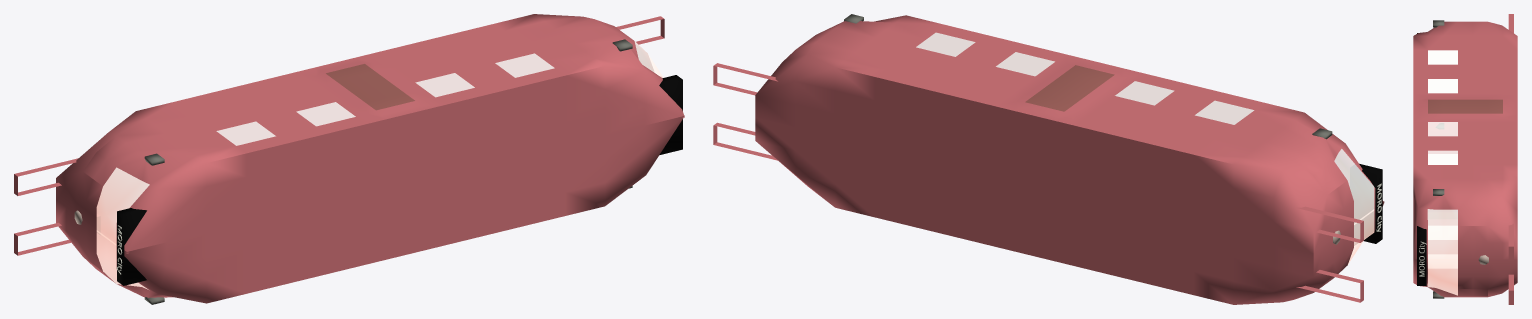
Rendered from asset8.glb.
The picture shows the model from 3 angles, left to right: view 1: azimuth 30°, elevation 25°; view 2: azimuth 150°, elevation 25°; view 3: azimuth 270°, elevation 25°; orthographic projection. The views are drawn at different scales.
Visible parts, largest first — view 1: Cube1, Cube1_sep12, Cube1_sep3, Cube1_sep2, Cube13, Cube13_sep26, Cube1_copy33, Cube1_sep27; view 2: Cube1, Cube1_sep12, Cube1_sep3, Cube1_sep2, Cube13, Cube1_sep27, Cube1_sep24, Cube1_copy33, Cube1_sep4; view 3: Cube1_sep12, Cube1, Cube1_sep2, Cube13_sep26, Cube1_sep3, Cube1_sep24, Cube1_sep4, Cube13_copy28, Cube1_sep27, Cube13_copy30, Cylinder16.
Part boxes in pixels (bbox=[...]): Cube1: bbox=[56, 62, 405, 253]; Cube1_sep12: bbox=[335, 14, 684, 183]; Cube1_sep3: bbox=[56, 181, 405, 303]; Cube1_sep2: bbox=[405, 115, 684, 254]; Cube13: bbox=[116, 208, 146, 285]; Cube13_sep26: bbox=[659, 75, 682, 154]; Cube1_copy33: bbox=[14, 214, 99, 255]; Cube1_sep27: bbox=[14, 158, 77, 195]; Cube1: bbox=[1034, 64, 1383, 253]; Cube1_sep12: bbox=[755, 15, 1104, 185]; Cube1_sep3: bbox=[1034, 185, 1384, 304]; Cube1_sep2: bbox=[755, 117, 1034, 256]; Cube13: bbox=[1350, 163, 1382, 243]; Cube1_sep27: bbox=[1296, 206, 1363, 242]; Cube1_sep24: bbox=[713, 63, 777, 95]; Cube1_copy33: bbox=[1296, 270, 1363, 302]; Cube1_sep4: bbox=[713, 122, 778, 160]; Cube1_sep12: bbox=[1413, 106, 1517, 260]; Cube1: bbox=[1413, 21, 1517, 107]; Cube1_sep2: bbox=[1413, 213, 1517, 297]; Cube13_sep26: bbox=[1417, 226, 1426, 285]; Cube1_sep3: bbox=[1428, 122, 1457, 211]; Cube1_sep24: bbox=[1508, 223, 1513, 260]; Cube1_sep4: bbox=[1508, 274, 1513, 304]; Cube13_copy28: bbox=[1433, 20, 1444, 195]; Cube1_sep27: bbox=[1508, 14, 1513, 32]; Cube13_copy30: bbox=[1433, 123, 1444, 298]; Cylinder16: bbox=[1478, 255, 1488, 264].
Size of what is drawn, in the model's own units: 1 by 0.2118 by 0.19.
